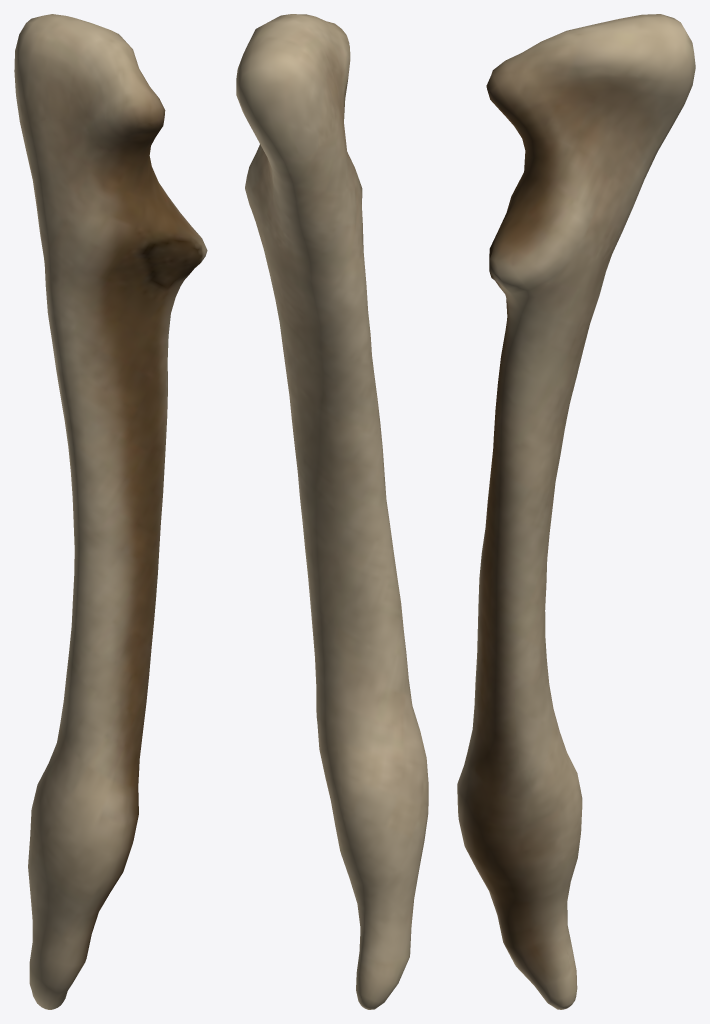
The model's file is Ulna.glb.
3 views of the same model, side by side, from view 1: azimuth 30°, elevation 25°; view 2: azimuth 150°, elevation 25°; view 3: azimuth 270°, elevation 25° (orthographic). The views are drawn at different scales.
Visible parts, largest first — view 1: polySurface5; view 2: polySurface5; view 3: polySurface5.
Boxes of the visible parts, <box> form: polySurface5: <box>14,14,207,1009</box>; polySurface5: <box>236,14,428,1009</box>; polySurface5: <box>457,14,695,1009</box>.
Bounding box in the file's own units: 23.9 × 135 × 28.65.
Materials: 1 (1 with a texture image).
